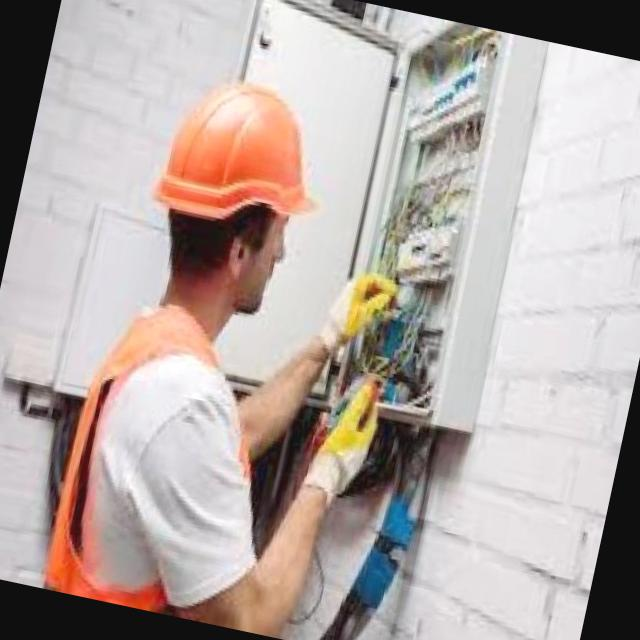vest: (24, 294, 288, 628)
